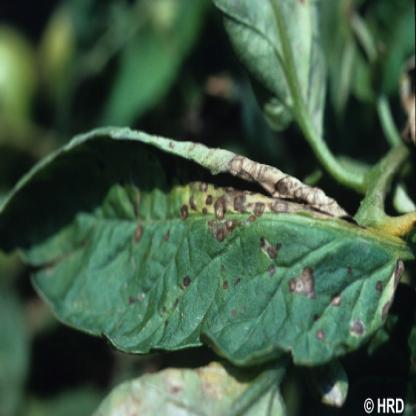tomato septoria leaf spot: (6, 120, 403, 372)
